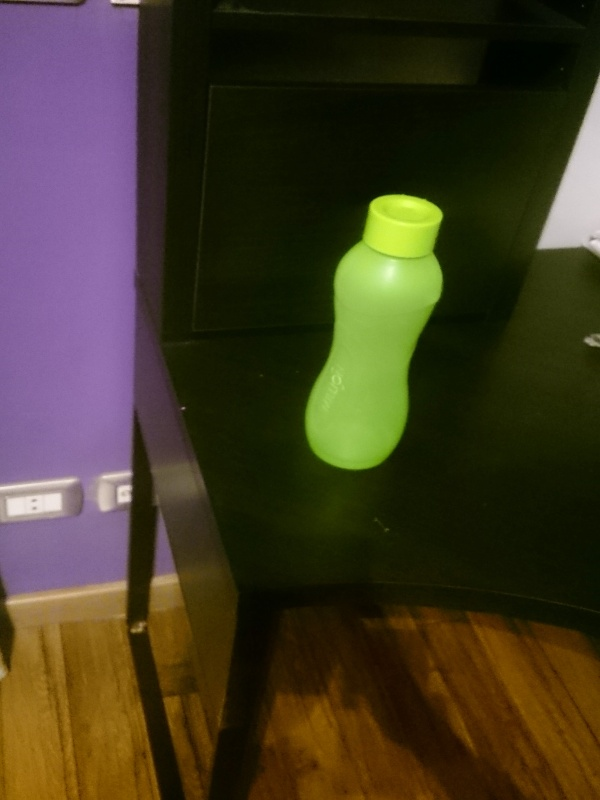my bottle: (306, 194, 446, 471)
